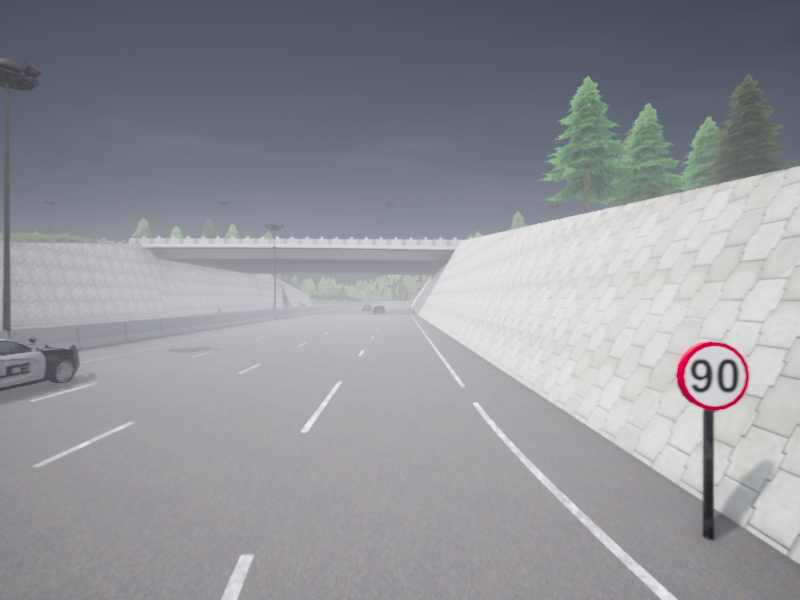vehicle: (0, 336, 78, 390), (374, 305, 385, 313), (362, 305, 372, 310)
